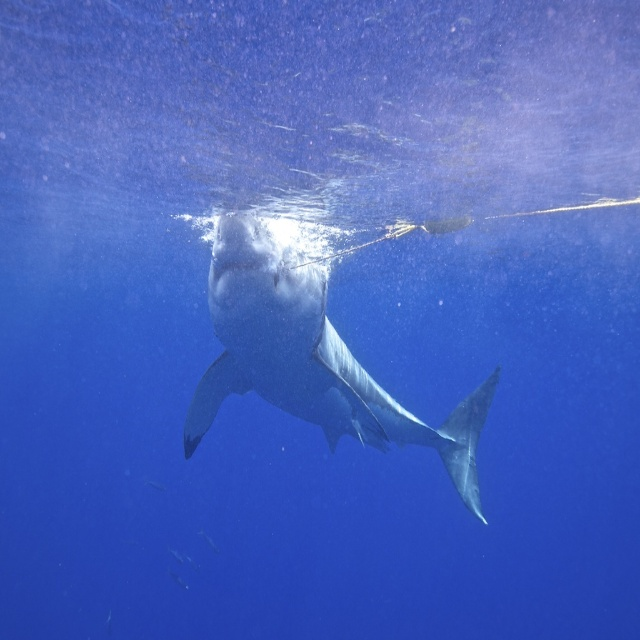Shark: (182, 212, 498, 527)
